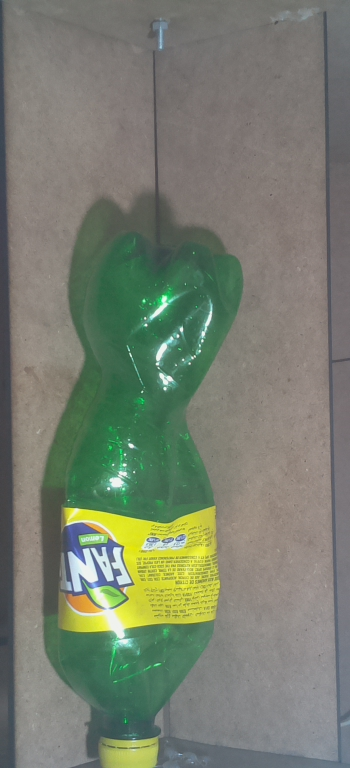Bouteille_1L: (41, 221, 249, 768)
